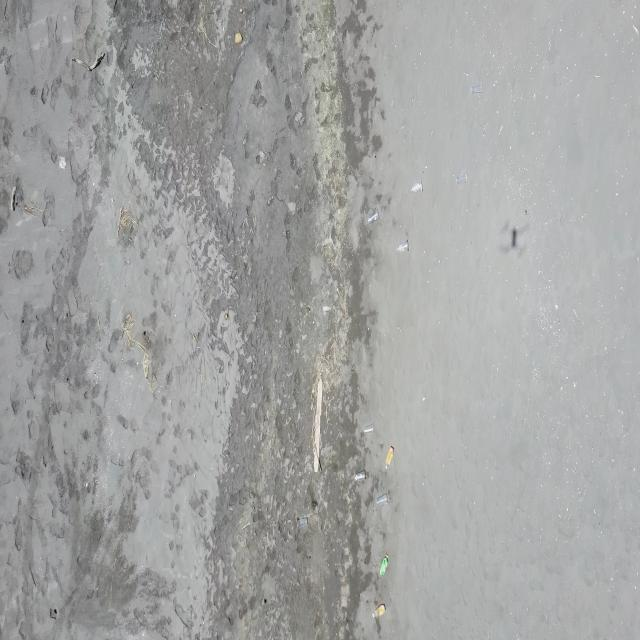plastic-bottle: (379, 554, 389, 578), (372, 602, 386, 619), (385, 445, 394, 470)
takeaway-cup: (367, 208, 380, 224), (376, 492, 388, 506), (397, 239, 409, 253), (410, 180, 422, 194), (353, 470, 366, 482), (296, 516, 308, 529), (363, 423, 375, 436), (470, 82, 483, 94), (456, 172, 468, 185)
